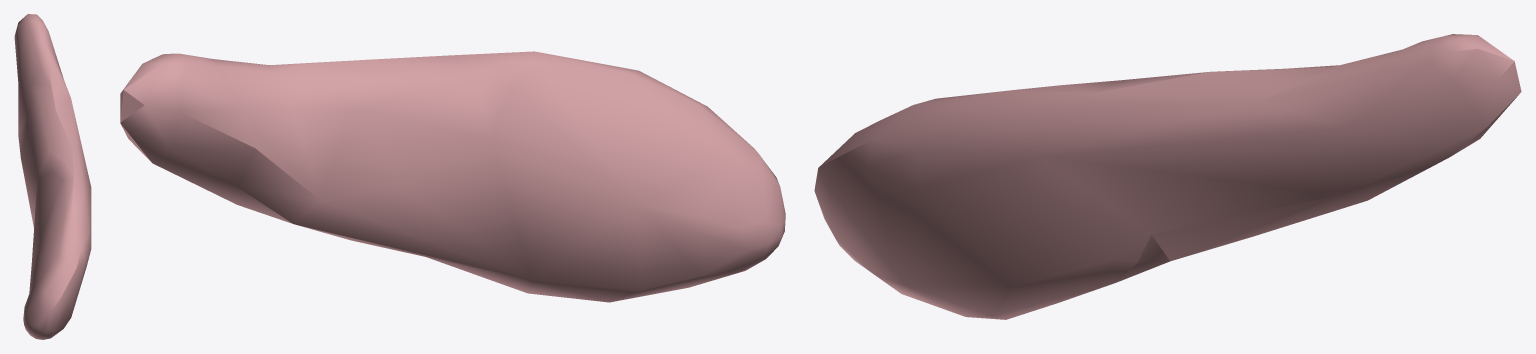
The model's file is fma59805_fj4643.glb.
The picture shows the model from 3 angles, left to right: view 1: azimuth 30°, elevation 25°; view 2: azimuth 150°, elevation 25°; view 3: azimuth 270°, elevation 25°; orthographic projection. The views are drawn at different scales.
Visible parts, largest first — view 1: FMA59805_FJ4643; view 2: FMA59805_FJ4643; view 3: FMA59805_FJ4643.
Boxes of the visible parts, x1,y1,x2,y2 form: FMA59805_FJ4643: [14, 14, 91, 339]; FMA59805_FJ4643: [120, 51, 785, 302]; FMA59805_FJ4643: [814, 34, 1521, 319].
Size of the model in its own units: 0.0126 by 0.0131 by 0.0226.
